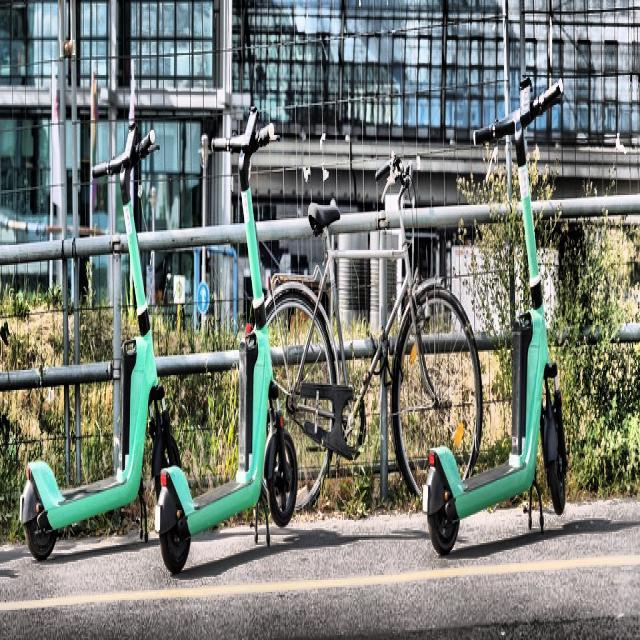bike: (18, 90, 294, 574), (250, 150, 484, 524), (422, 75, 571, 555)
